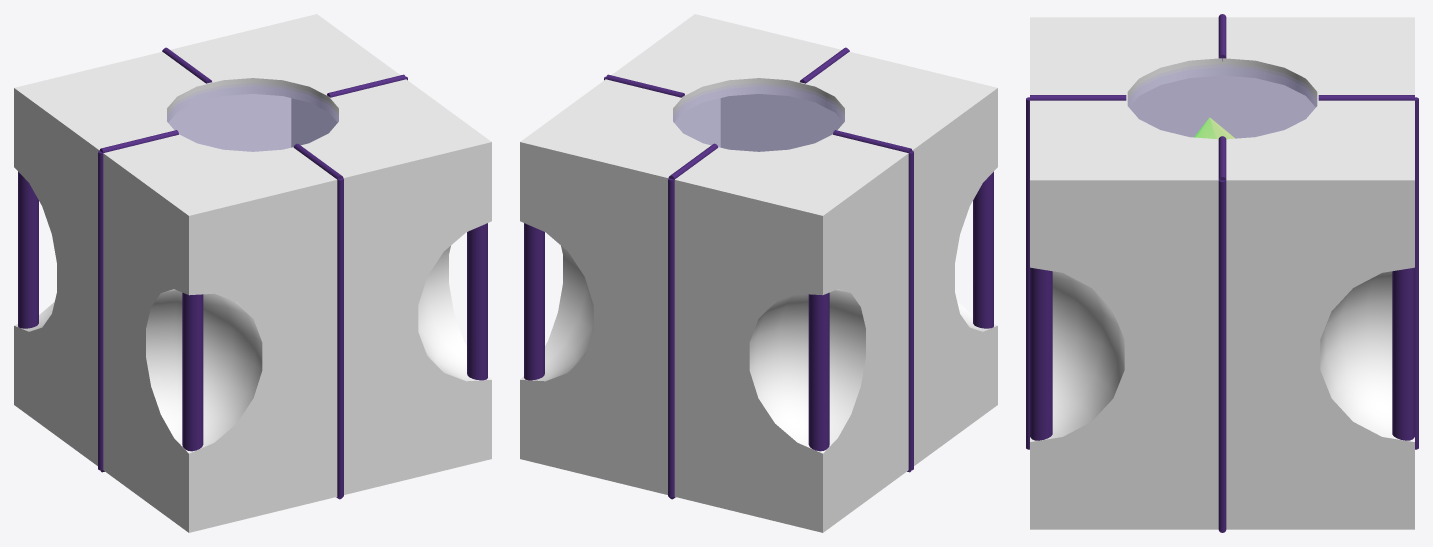
The model's file is Cubo Circulo (1).FBX.
3 renders of one model, left to right at view 1: azimuth 30°, elevation 25°; view 2: azimuth 150°, elevation 25°; view 3: azimuth 270°, elevation 25°, orthographic. The views are drawn at different scales.
Visible parts, largest first — view 1: Box001, Cylinder020, Cylinder004, Cylinder002, Cylinder003, Cylinder007, Cylinder006; view 2: Box001, Cylinder020, Cylinder003, Cylinder001, Cylinder004, Cylinder010, Cylinder006; view 3: Box001, Cylinder020, Cylinder002, Cylinder001, Cylinder005, Cylinder010, Cylinder007, Cylinder014, Cylinder013, Spindle001.
Part boxes in pixels (x1=…): Box001: x1=14, y1=14, x2=491, y2=532; Cylinder020: x1=167, y1=86, x2=338, y2=151; Cylinder004: x1=182, y1=292, x2=203, y2=451; Cylinder002: x1=467, y1=223, x2=487, y2=380; Cylinder003: x1=18, y1=171, x2=38, y2=328; Cylinder007: x1=337, y1=178, x2=343, y2=497; Cylinder006: x1=98, y1=150, x2=103, y2=470; Box001: x1=520, y1=14, x2=997, y2=532; Cylinder020: x1=673, y1=86, x2=844, y2=151; Cylinder003: x1=808, y1=292, x2=829, y2=451; Cylinder001: x1=524, y1=223, x2=544, y2=380; Cylinder004: x1=973, y1=171, x2=993, y2=328; Cylinder010: x1=668, y1=178, x2=674, y2=497; Cylinder006: x1=908, y1=150, x2=913, y2=470; Box001: x1=1030, y1=17, x2=1414, y2=529; Cylinder020: x1=1128, y1=67, x2=1316, y2=138; Cylinder002: x1=1030, y1=267, x2=1052, y2=440; Cylinder001: x1=1392, y1=267, x2=1414, y2=440; Cylinder005: x1=1218, y1=180, x2=1226, y2=530; Cylinder010: x1=1415, y1=97, x2=1418, y2=449; Cylinder007: x1=1026, y1=97, x2=1029, y2=449; Cylinder014: x1=1318, y1=95, x2=1414, y2=100; Cylinder013: x1=1030, y1=95, x2=1126, y2=100; Spindle001: x1=1194, y1=117, x2=1234, y2=139.
Size of the model in its own units: 40.16 by 40.16 by 40.16.
Materials: 19 (17 with a texture image).
